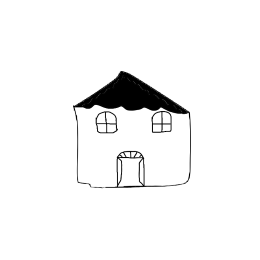closed_window: (146, 107, 176, 138), (92, 109, 124, 138)
door: (113, 148, 152, 190)
shaded_roof: (68, 66, 202, 116)
small_house: (1, 0, 260, 260)
wall: (72, 102, 194, 192)
